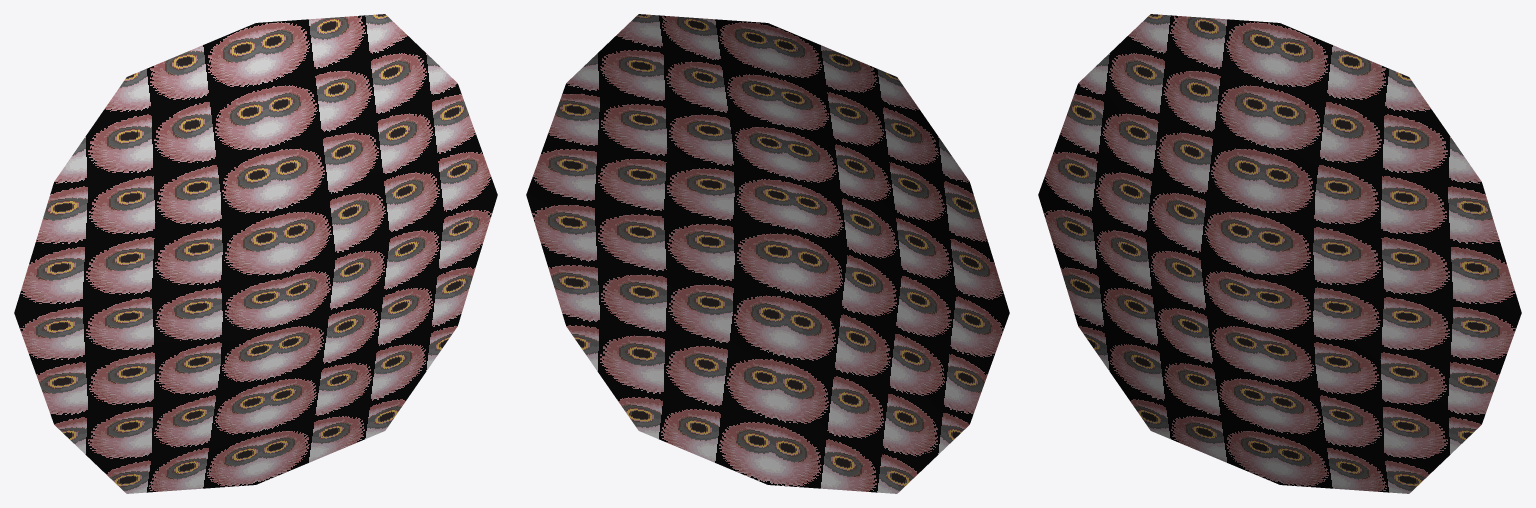
The model's file is 5052musi62_e.gltf.
3 views of the same model, side by side, from view 1: azimuth 30°, elevation 25°; view 2: azimuth 150°, elevation 25°; view 3: azimuth 330°, elevation 25° (orthographic).
Parts seen in each view (by area): view 1: 5052musi62_e; view 2: 5052musi62_e; view 3: 5052musi62_e.
Part boxes in pixels (x1=…): 5052musi62_e: x1=14, y1=14, x2=497, y2=493; 5052musi62_e: x1=526, y1=14, x2=1009, y2=493; 5052musi62_e: x1=1038, y1=14, x2=1521, y2=493.
Size of the model in its own units: 0.2686 by 0.2451 by 0.0283.
Materials: 1 (1 with a texture image).
